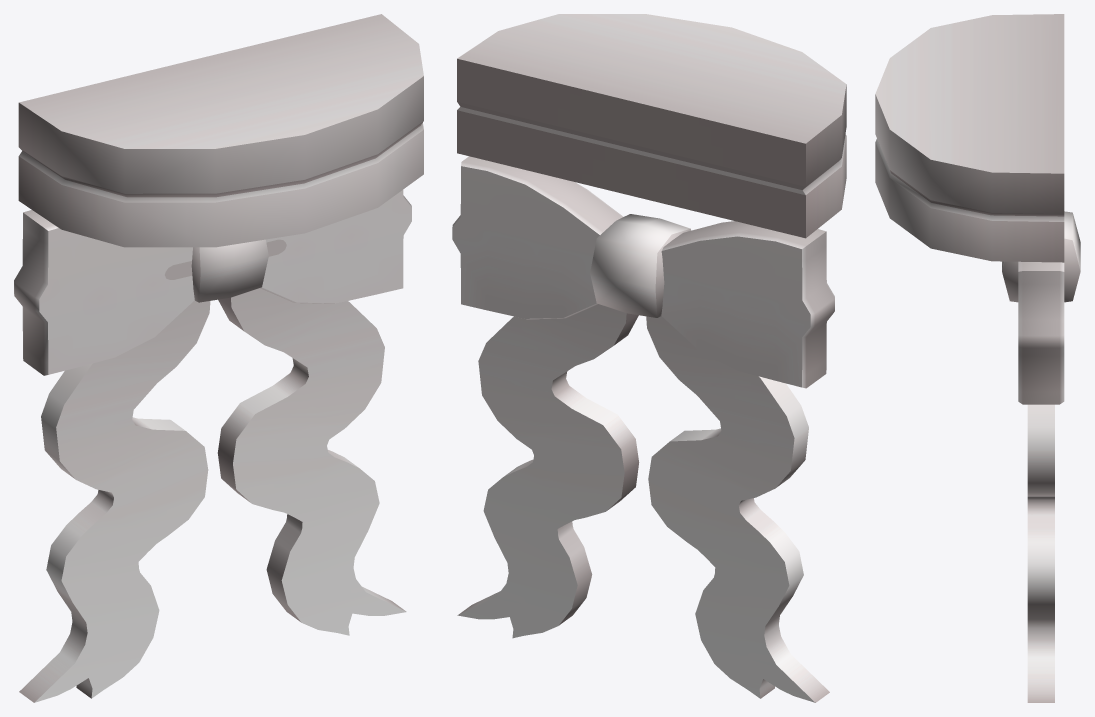
Rendered from Doll_OB_Frame_007.FBX.
The picture shows the model from 3 angles, left to right: view 1: azimuth 30°, elevation 25°; view 2: azimuth 150°, elevation 25°; view 3: azimuth 270°, elevation 25°; orthographic projection. The views are drawn at different scales.
Visible parts, largest first — view 1: Doll_OB_Frame_007; view 2: Doll_OB_Frame_007; view 3: Doll_OB_Frame_007.
Boxes of the visible parts, x1,y1,x2,y2 form: Doll_OB_Frame_007: [14, 14, 423, 702]; Doll_OB_Frame_007: [452, 14, 846, 702]; Doll_OB_Frame_007: [875, 14, 1080, 702].
Bounding box in the file's own units: 38.76 × 58.42 × 20.27.
